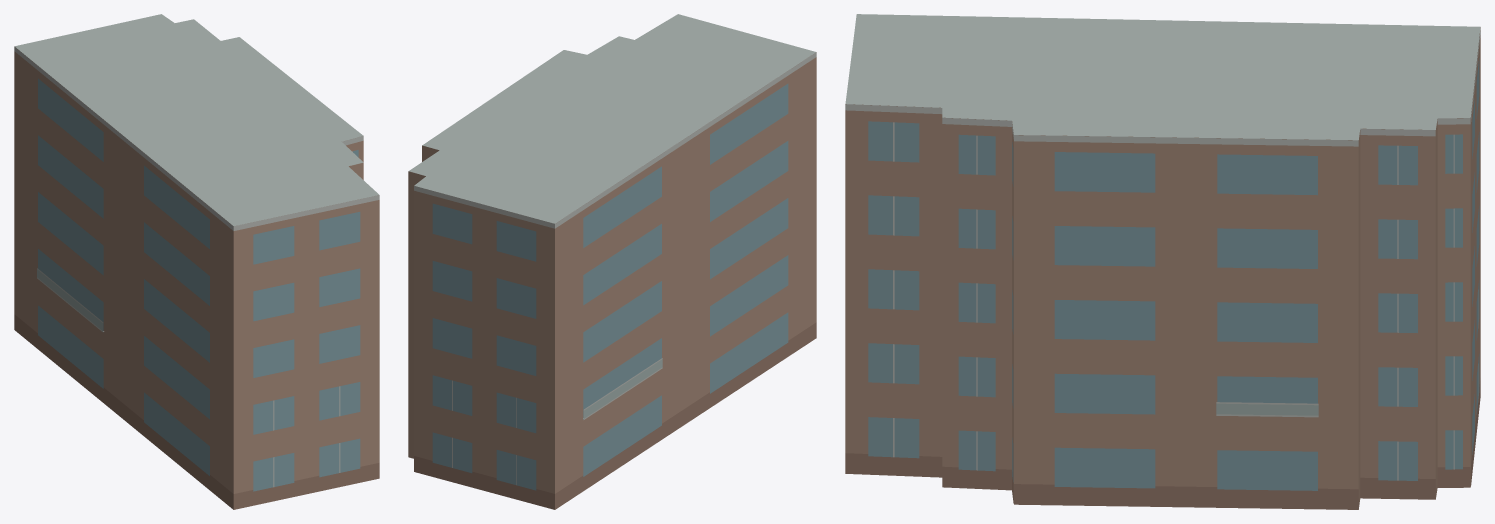
File: survey-upis-32907524.glb
3 views of the same model, side by side, from view 1: azimuth 30°, elevation 25°; view 2: azimuth 150°, elevation 25°; view 3: azimuth 270°, elevation 25° (orthographic). The views are drawn at different scales.
Parts seen in each view (by area): view 1: survey-upis-32907524.tmp; view 2: survey-upis-32907524.tmp; view 3: survey-upis-32907524.tmp.
Part boxes in pixels (<box>): survey-upis-32907524.tmp: <box>14,14,379,509</box>; survey-upis-32907524.tmp: <box>408,14,816,509</box>; survey-upis-32907524.tmp: <box>845,14,1480,509</box>.
Size of the model in its own units: 10.41 by 14.2 by 22.12.
